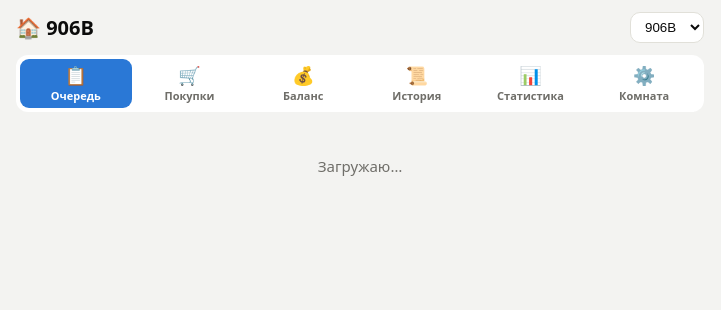
Test case: rooms › makes the room switched to the bot's active room
The width and height of the screenshot is (721, 310).
Select "Дача" in the dropdown named "Комната" at (667, 28), box [630,12,704,43]
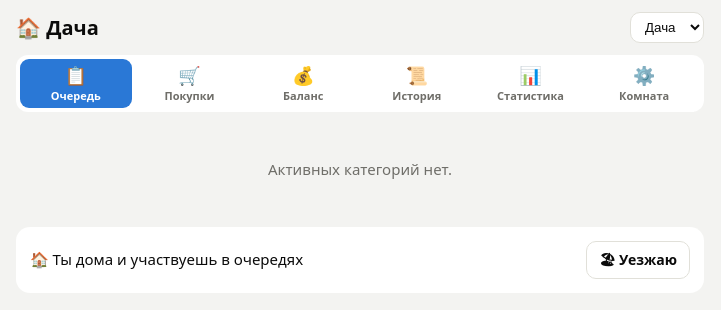
Expected: the heading "🏠 Дача" is shown, [16,14,99,42]
